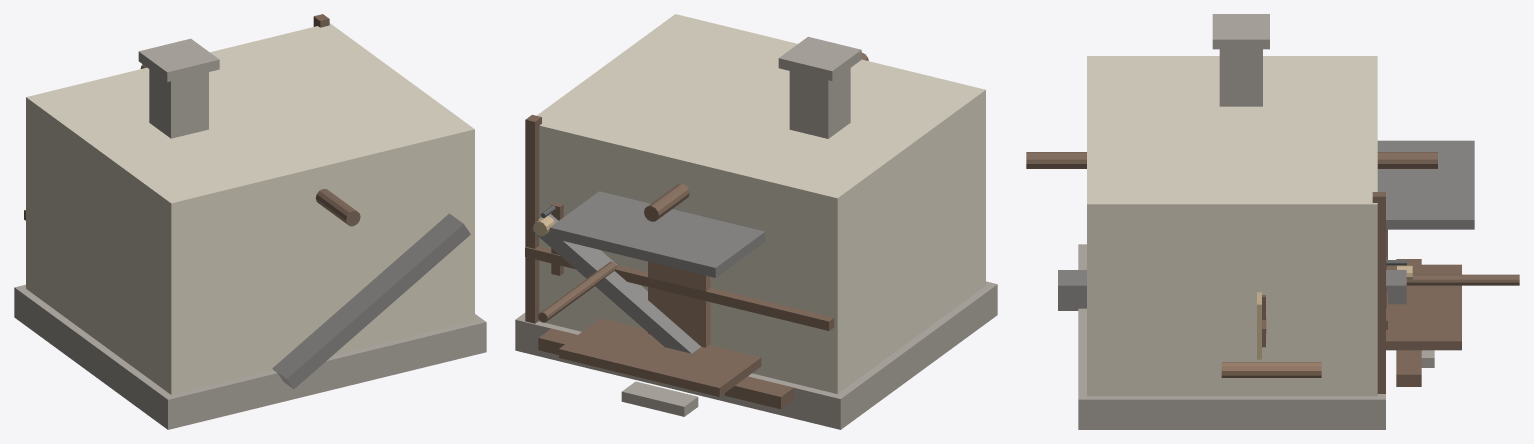
File: cottage_A.glb
3 views of the same model, side by side, from view 1: azimuth 30°, elevation 25°; view 2: azimuth 150°, elevation 25°; view 3: azimuth 270°, elevation 25° (orthographic). The views are drawn at different scales.
Parts seen in each view (by area): view 1: plastered_walls, stone_foundation, roof_slope, chimney, chimney_cap, ridge_cap; view 2: plastered_walls, stone_foundation, porch_roof, porch_deck, roof_slope, chimney, front_timber, door, corner_timber, chimney_cap, front_step, planter_left (+3 smaller); view 3: plastered_walls, stone_foundation, porch_roof, porch_deck, chimney, chimney_cap, ridge_cap, roof_slope, corner_timber, firewood, porch_post, planter_right.
Boxes of the visible parts, x1,y1,x2,y2 form: plastered_walls: [26, 23, 474, 394]; stone_foundation: [14, 284, 486, 429]; roof_slope: [272, 213, 470, 388]; chimney: [149, 69, 208, 138]; chimney_cap: [138, 38, 219, 81]; ridge_cap: [140, 64, 360, 226]; plastered_walls: [536, 14, 985, 393]; stone_foundation: [515, 281, 997, 429]; porch_roof: [549, 191, 765, 277]; porch_deck: [559, 318, 761, 396]; roof_slope: [531, 213, 700, 353]; chimney: [789, 68, 850, 138]; front_timber: [525, 246, 834, 330]; door: [648, 261, 710, 347]; corner_timber: [525, 114, 541, 323]; chimney_cap: [778, 36, 861, 80]; front_step: [621, 381, 698, 416]; planter_left: [724, 376, 793, 409]; plastered_walls: [1087, 56, 1377, 396]; stone_foundation: [1078, 244, 1385, 429]; porch_roof: [1377, 140, 1474, 229]; porch_deck: [1386, 264, 1461, 350]; chimney: [1219, 49, 1262, 106]; chimney_cap: [1212, 14, 1269, 49]; ridge_cap: [1026, 152, 1437, 168]; roof_slope: [1058, 270, 1406, 310]; corner_timber: [1372, 192, 1385, 393]; firewood: [1221, 362, 1321, 377]; porch_post: [1406, 274, 1519, 285]; planter_right: [1396, 350, 1421, 386].
Size of the model in its own units: 6.42 by 5.35 by 8.14.
